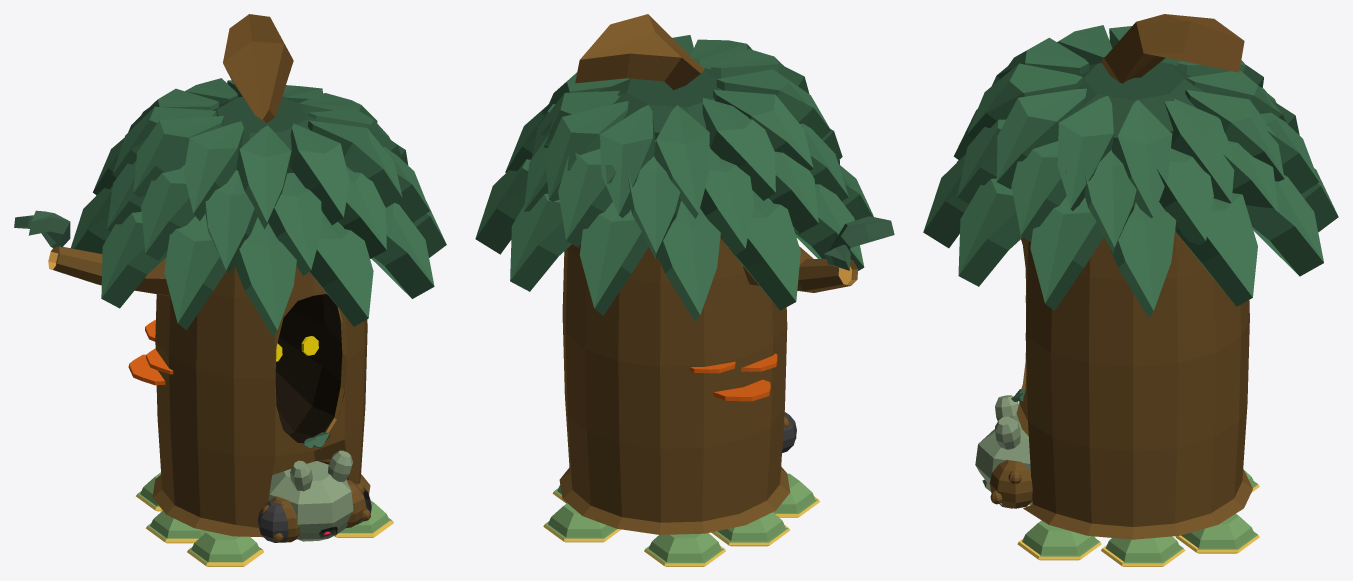
File: modelo3larvaLowPolyFinalApply2.fbx
3 views of the same model, side by side, from view 1: azimuth 30°, elevation 25°; view 2: azimuth 150°, elevation 25°; view 3: azimuth 270°, elevation 25° (orthographic). The views are drawn at different scales.
Parts seen in each view (by area): view 1: Cylinder.019; view 2: Cylinder.019; view 3: Cylinder.019.
Boxes of the visible parts, <box> form: Cylinder.019: <box>14,14,446,566</box>; Cylinder.019: <box>475,14,894,566</box>; Cylinder.019: <box>923,14,1338,566</box>.
Size of the model in its own units: 442 by 524 by 385.
